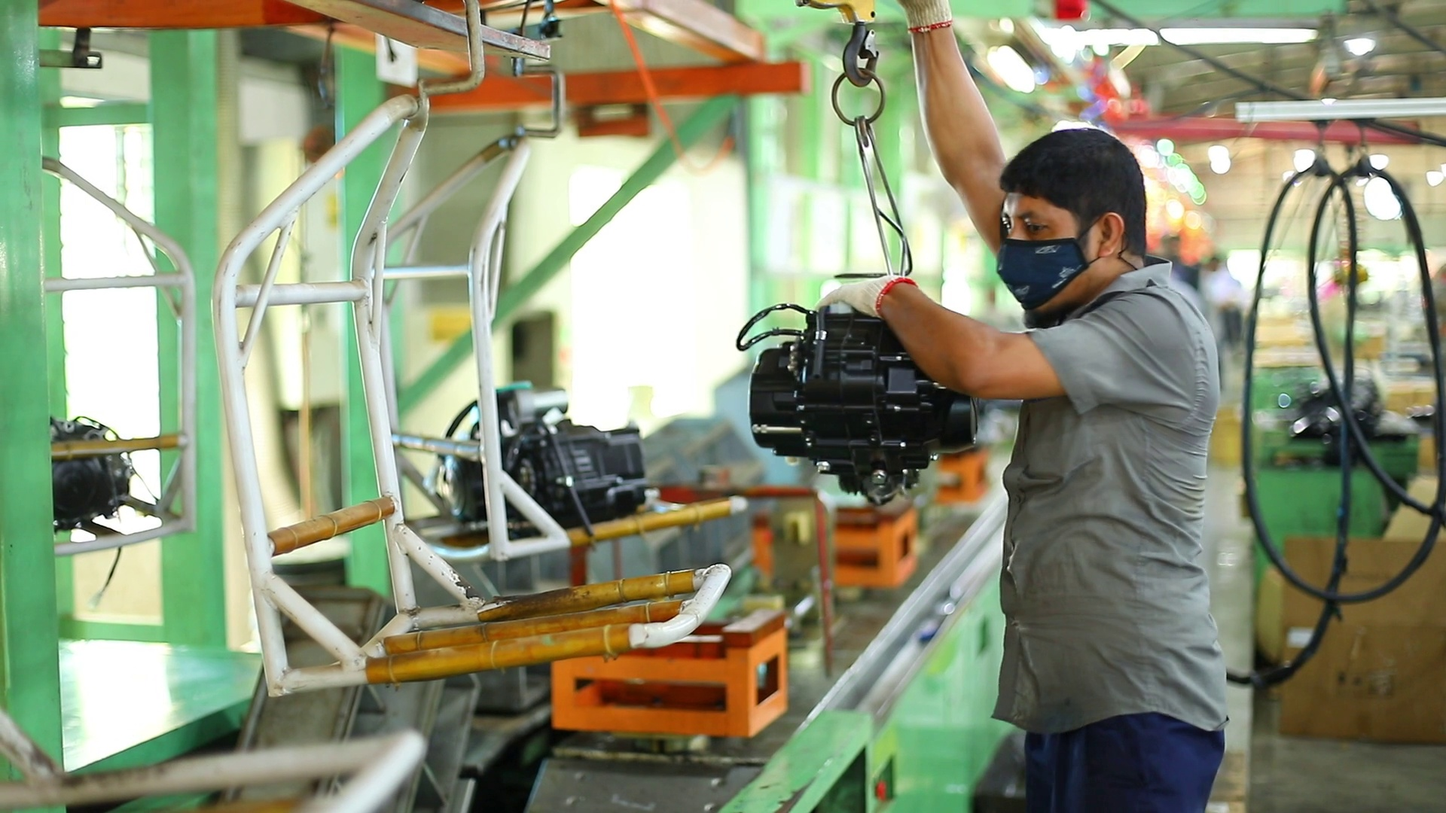mask: (993, 239, 1091, 311)
person: (811, 0, 1233, 813)
